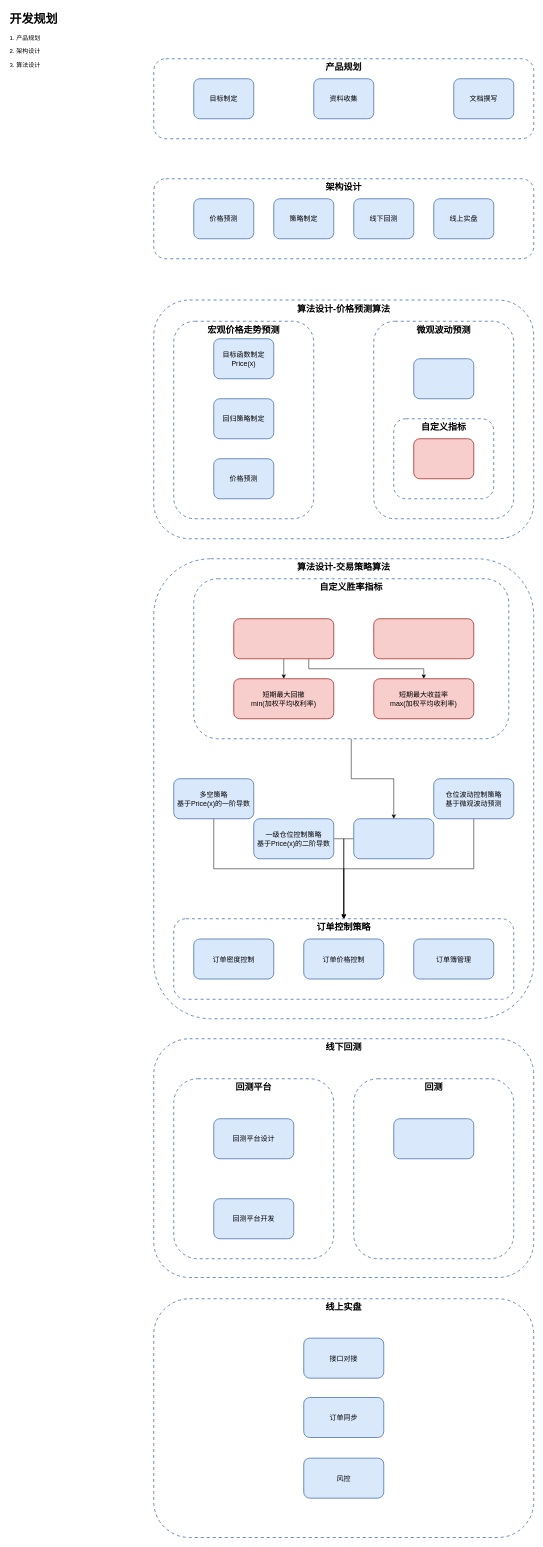
The diagram is 543 pixels wide and 1547 high, and some of its shapes have lost their labels. The shapes that lost their labels are listed below. From the top down, each one's centre as x and y in pixels, then its label:
(x=443, y=378): 小波变换
(x=443, y=458): 折叠率
(x=283, y=638): 加权平均收利率 sum(某日平仓收益率/当日距今时间 *当日权重 )/sum(权重)
(x=423, y=638): 加权胜率 sum(获胜与否/当日距今时间 *当日权重 ) /sum(权重)
(x=393, y=838): 二级仓位控制策略 基于胜率指标
(x=433, y=1138): 参数优化
